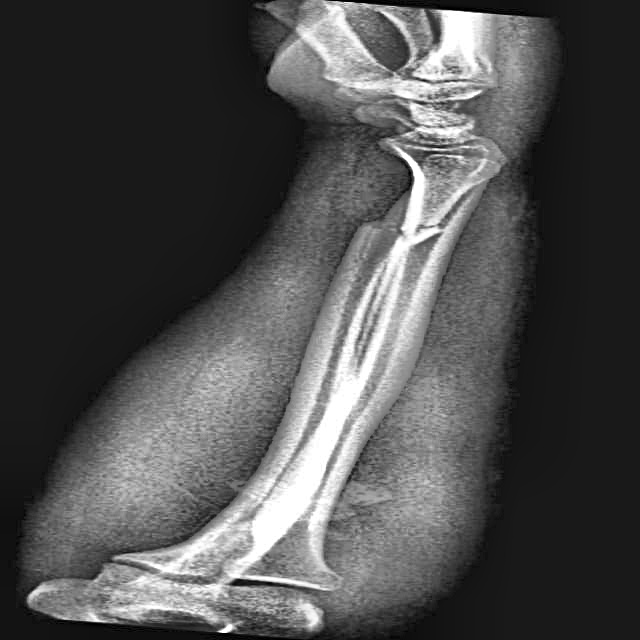Oblique Displaced: (313, 195, 505, 301)
